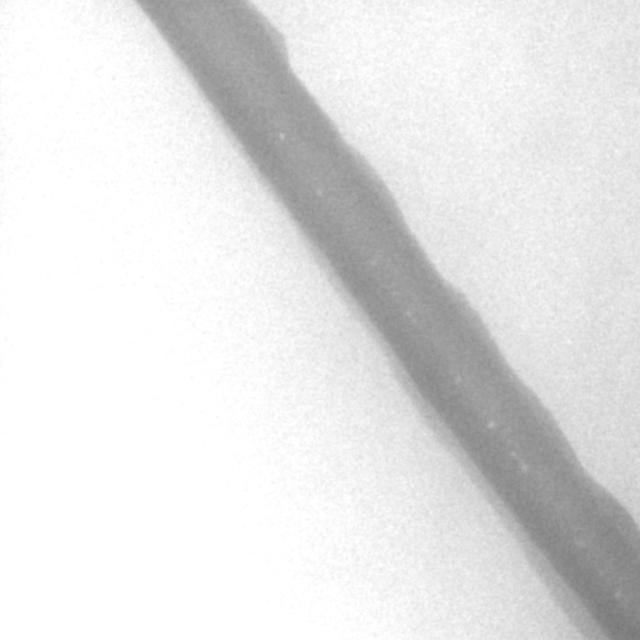air hole: (313, 185, 325, 199), (485, 417, 494, 431), (520, 462, 528, 474), (277, 129, 285, 141), (509, 447, 517, 458)
